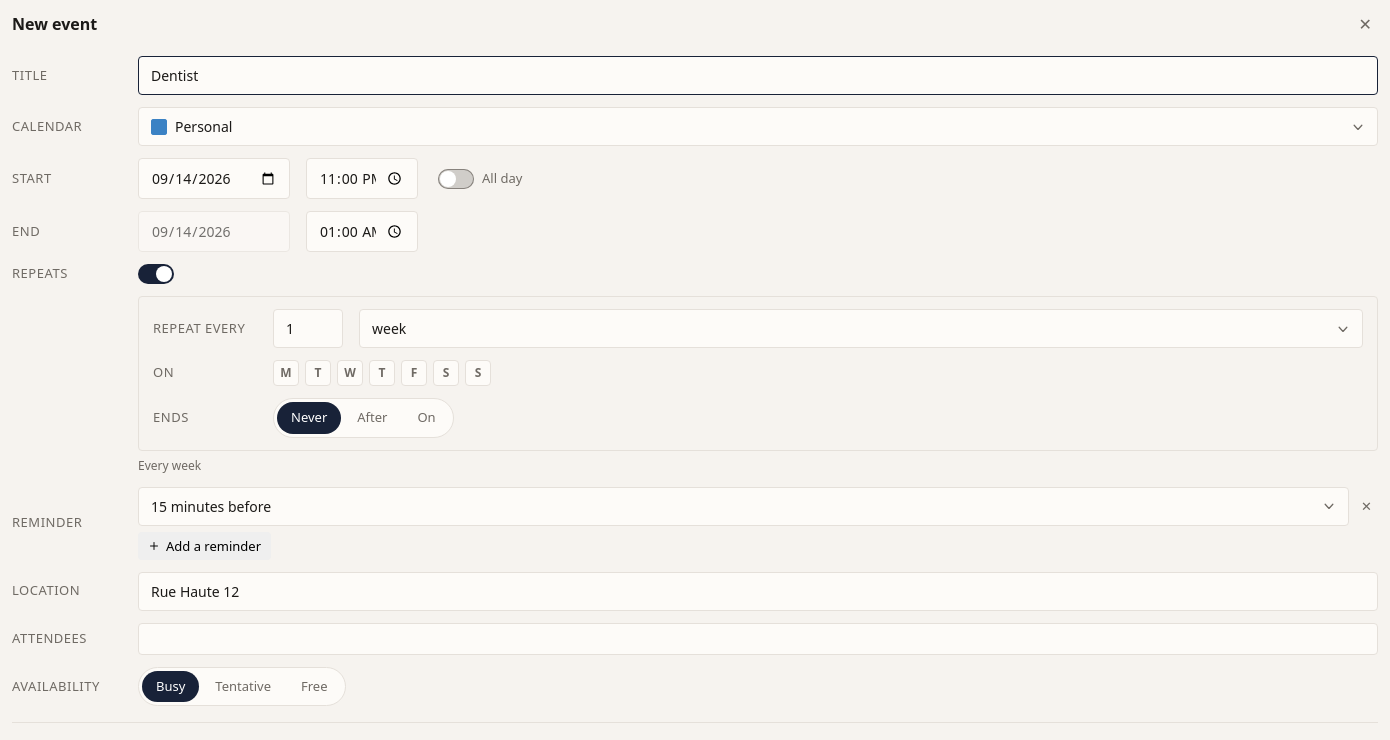
Test: EventEditor › lets a repeating event cross midnight
The width and height of the screenshot is (1390, 740).
Replace the text in the time field named "End time" with "01:30" at (362, 232), box [306,211,418,252]
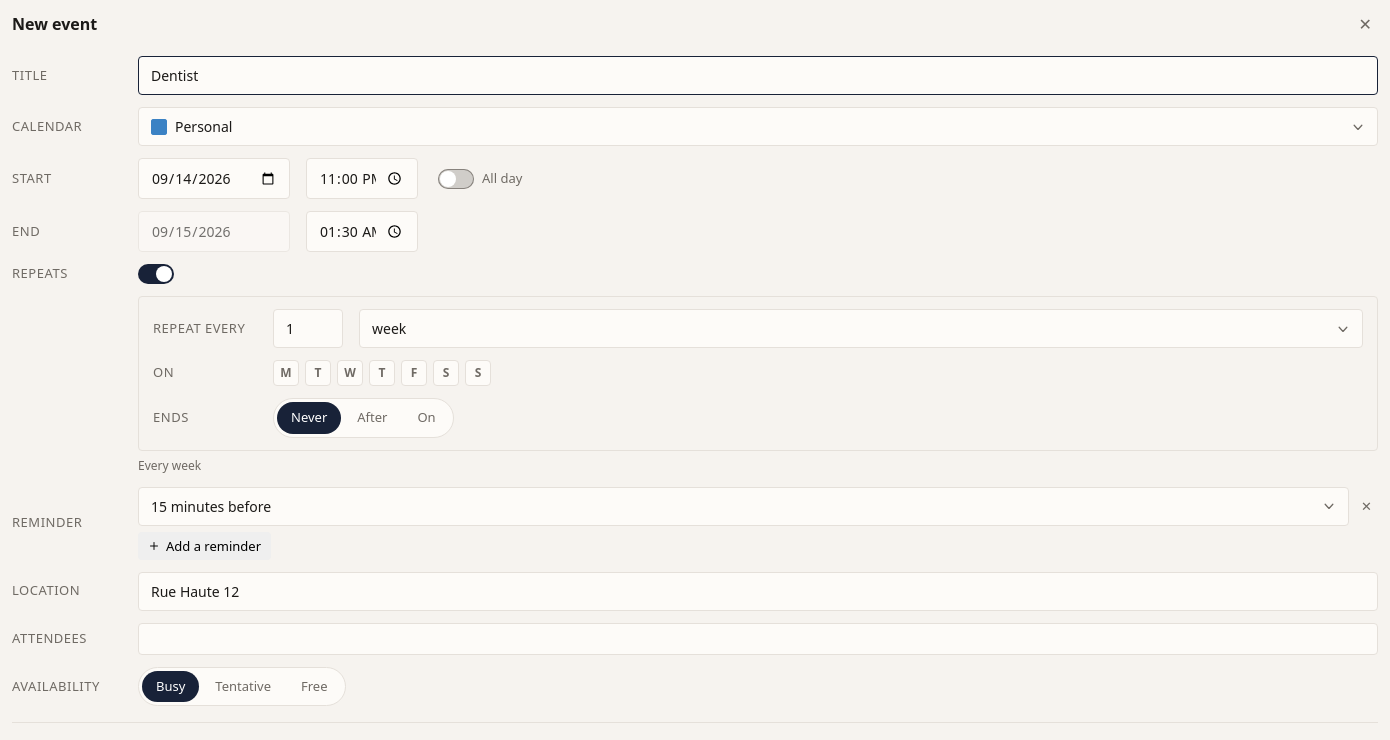
expect the date field named "End date" holds "2026-09-15": met, box [138,211,290,252]
